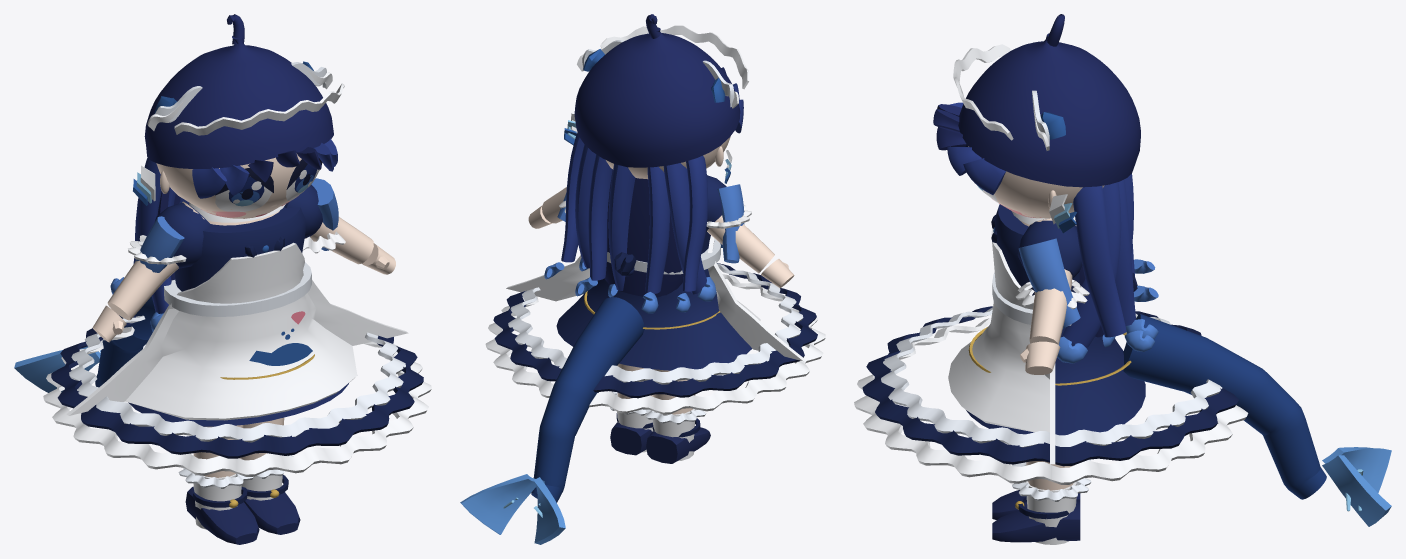
Rendered from blue_whale_maid_chibi_v1.glb.
The picture shows the model from 3 angles, left to right: view 1: azimuth 30°, elevation 25°; view 2: azimuth 150°, elevation 25°; view 3: azimuth 270°, elevation 25°; orthographic projection. The views are drawn at different scales.
Parts seen in each view (by area): view 1: BW_Dress, BW_Hair, BW_Feet, BW_Body, BW_Head, BW_Tail; view 2: BW_Hair, BW_Dress, BW_Tail, BW_Feet, BW_Body, BW_Head; view 3: BW_Dress, BW_Hair, BW_Tail, BW_Feet, BW_Body, BW_Head.
Part boxes in pixels (x1,y1,x2,y2): BW_Dress: (43, 61, 431, 476); BW_Hair: (110, 14, 338, 331); BW_Feet: (178, 455, 300, 544); BW_Body: (92, 201, 395, 477); BW_Head: (156, 153, 322, 218); BW_Tail: (14, 296, 155, 392); BW_Hair: (544, 14, 744, 313); BW_Dress: (485, 25, 825, 414); BW_Tail: (460, 297, 644, 544); BW_Feet: (610, 391, 710, 463); BW_Body: (528, 187, 794, 414); BW_Head: (606, 136, 730, 179); BW_Dress: (854, 42, 1248, 484); BW_Hair: (933, 14, 1158, 363); BW_Tail: (1123, 314, 1391, 526); BW_Feet: (992, 459, 1091, 544); BW_Body: (1019, 218, 1076, 490); BW_Head: (965, 145, 1104, 218).
Bounding box in the file's own units: 0.7568 × 1.06 × 1.01.
